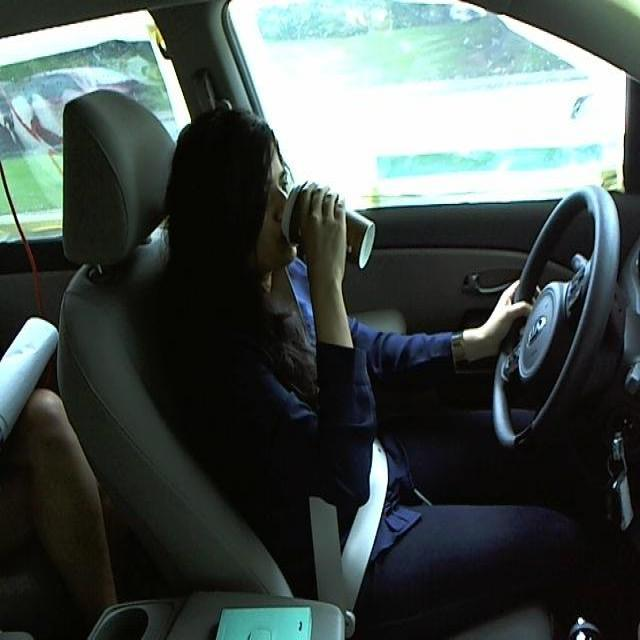drinking: (277, 179, 376, 269)
